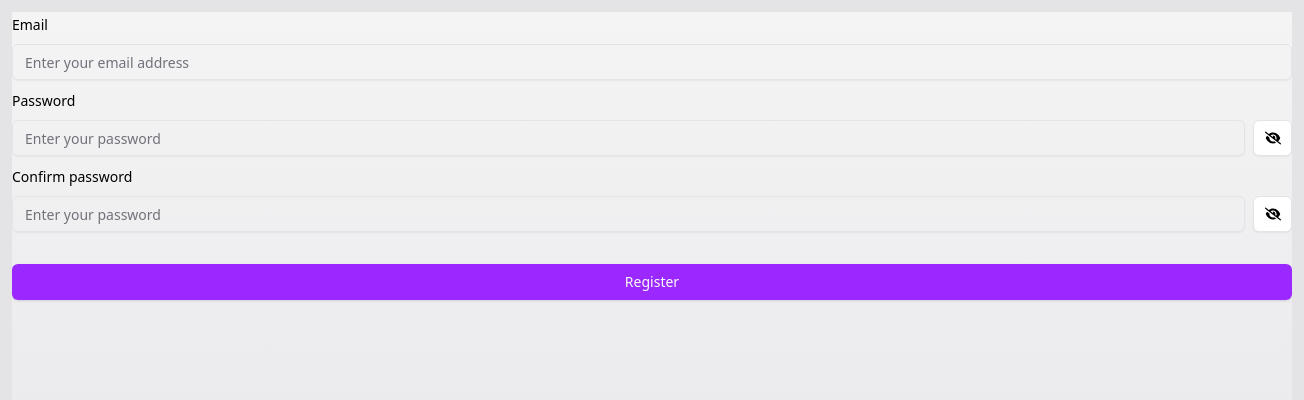
Test case: RegisterForm › validates presence for all fields
The width and height of the screenshot is (1304, 400).
Step 1. Click the button "Register" → (652, 282), box [12,264,1292,300]
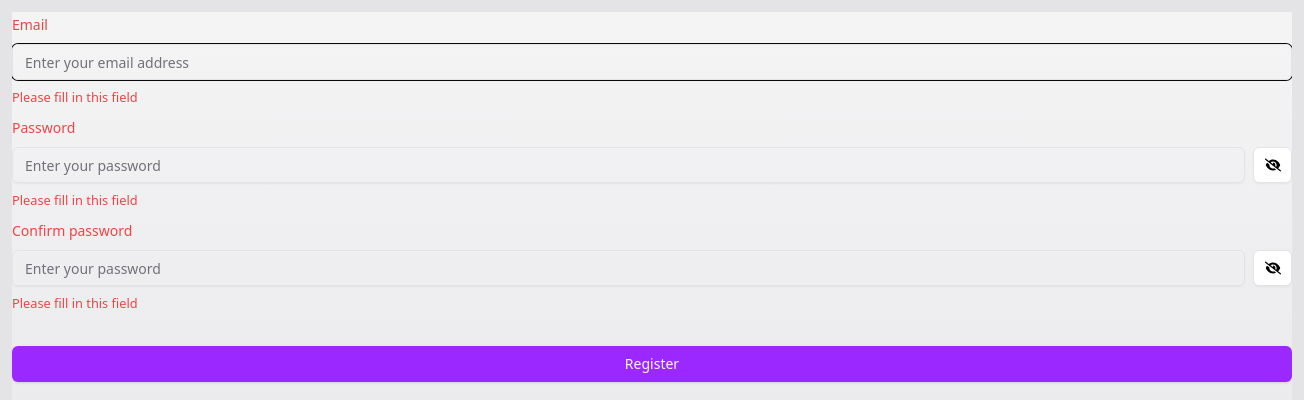
Now the text "Please fill in this field" is shown 3 times, box [12,88,138,106]; [12,191,138,209]; [12,294,138,312]
